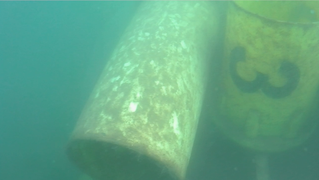3: (228, 45, 301, 100)
pipe: (62, 1, 224, 177), (208, 1, 319, 155)
